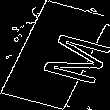M_W: (11, 25, 99, 85)
